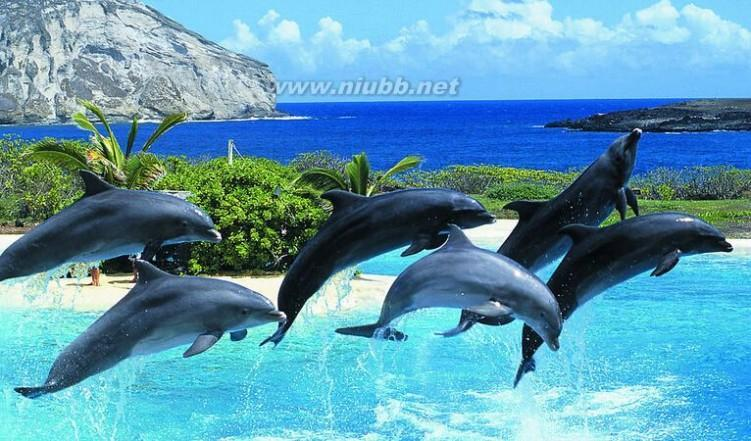fish: (432, 123, 644, 335), (509, 206, 733, 388), (7, 259, 287, 401), (260, 187, 499, 351), (336, 222, 565, 351), (1, 166, 225, 279)
